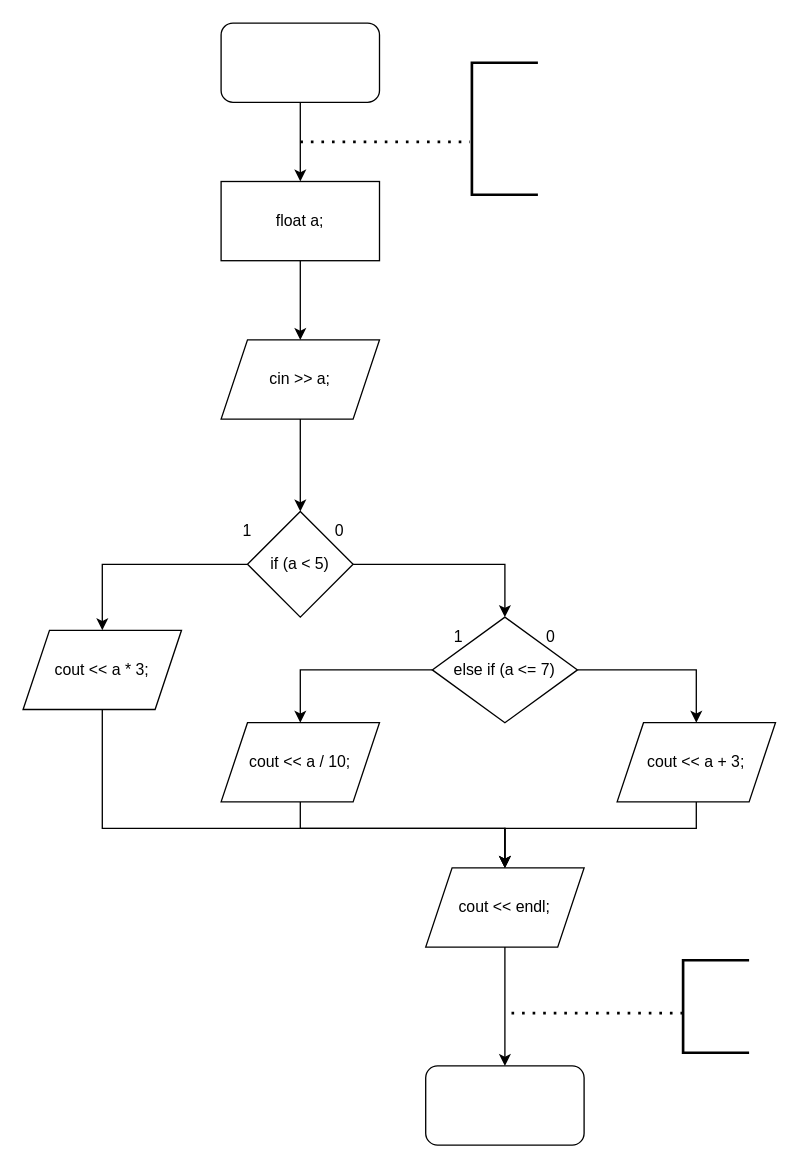
The diagram is 799 pixels wide and 1168 high, and some of its shapes have lost their labels. Here are the shapes that lost their labels. From the top down, the box of each, then its label:
(220, 22, 380, 102): start
(470, 61, 539, 195): #include <iostream> using namespace std; int main ()
(681, 958, 750, 1053): return 0;
(424, 1065, 584, 1145): end
